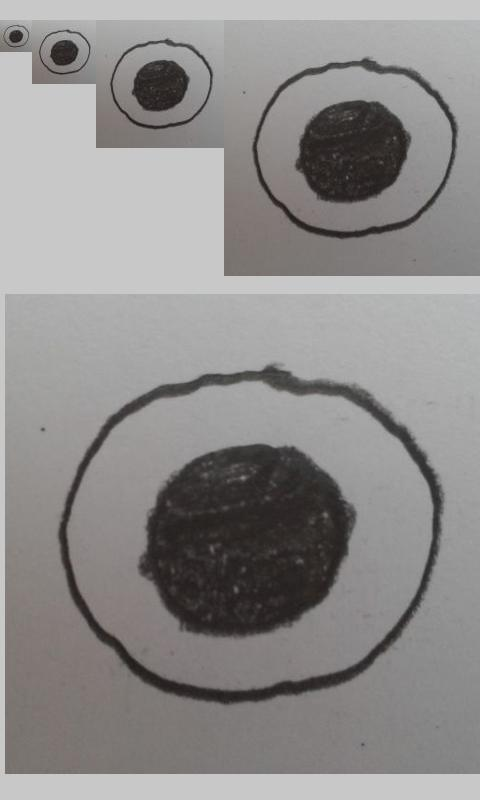radio_button: (57, 366, 446, 706), (252, 58, 458, 239), (109, 37, 214, 130), (39, 29, 91, 75), (2, 24, 30, 48)
